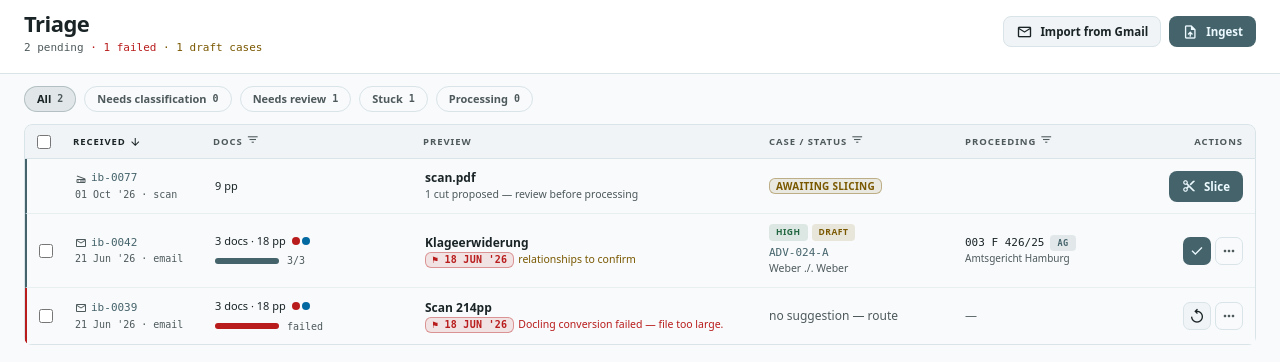
Test: lists bundles with their state and filters by status chip
The width and height of the screenshot is (1280, 362).
expect the text "Klageerwiderung" is shown: met, box [425,234,528,250]
expect the text "2 pending" is shown: met, box [24,41,84,54]
Click the button "Stuck 1" at point(394, 99), box [359,86,428,112]
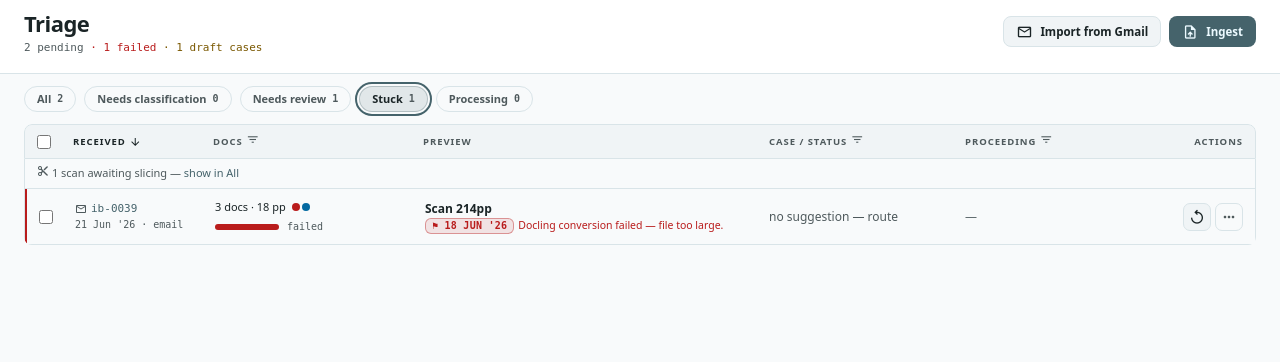
expect the number of list items is 1: met, box [25,189,1255,244]
expect the link "Slice" is gone: met
expect the text "1 scan awaiting slicing — show in All" is shown: met, box [24,159,1256,189]
